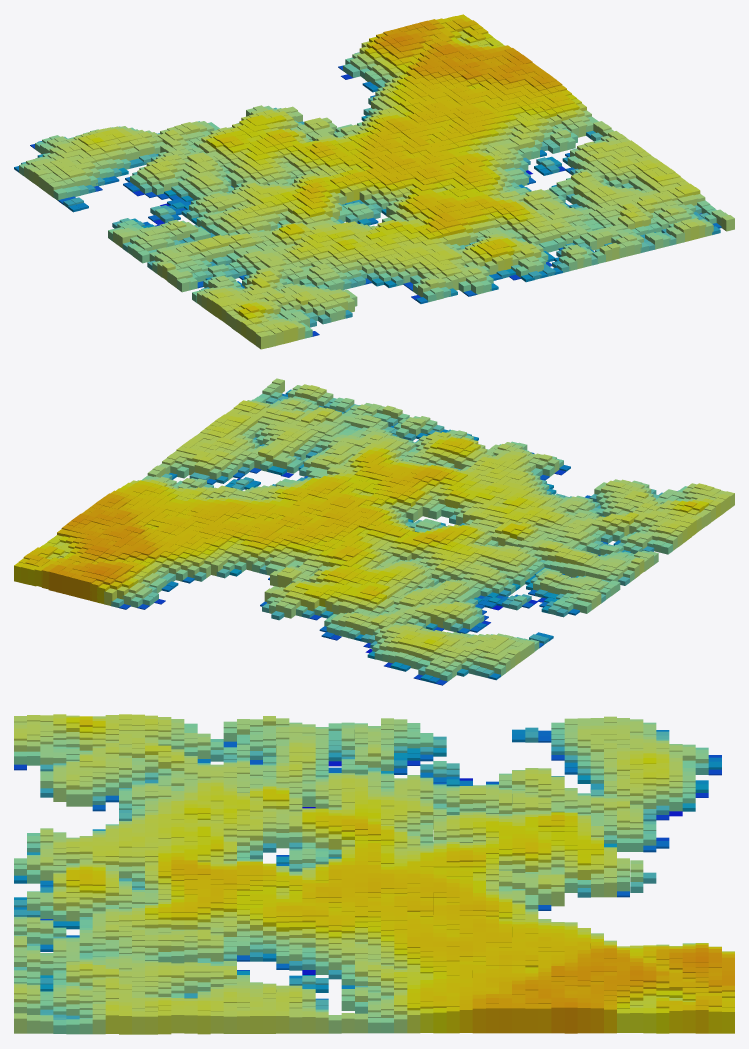
File: population.glb
3 views of the same model, one above another, from view 1: azimuth 30°, elevation 25°; view 2: azimuth 150°, elevation 25°; view 3: azimuth 270°, elevation 25° (orthographic). The views are drawn at different scales.
Parts seen in each view (by area): view 1: population; view 2: population; view 3: population.
Part boxes in pixels (x1=…): population: x1=14, y1=14, x2=734, y2=349; population: x1=14, y1=378, x2=734, y2=685; population: x1=14, y1=714, x2=734, y2=1034.
Size of the model in its own units: 5545 by 275 by 5502.
